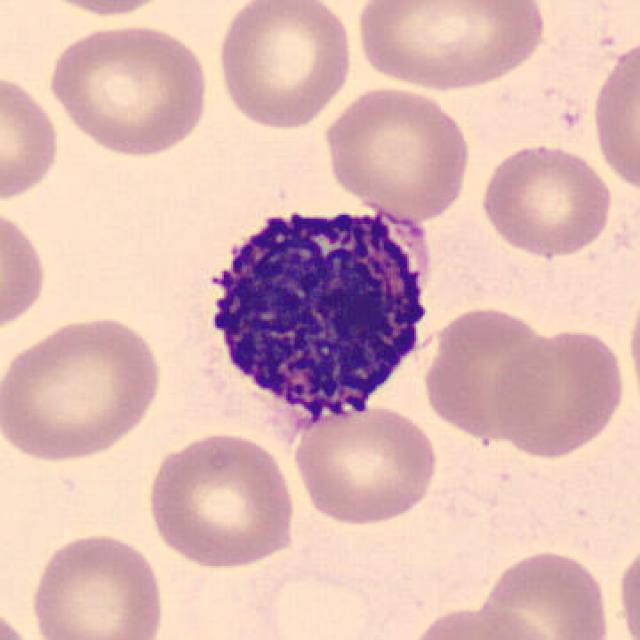Basophil: (185, 187, 448, 448)
RBC: (0, 310, 167, 466), (42, 19, 212, 159), (142, 428, 300, 572), (318, 83, 473, 222), (420, 302, 560, 444), (288, 400, 441, 529), (487, 324, 629, 460), (214, 0, 356, 132), (350, 0, 551, 93), (476, 139, 617, 259), (25, 527, 169, 640), (471, 546, 615, 640), (0, 69, 64, 206), (588, 36, 640, 198), (0, 203, 52, 340), (404, 601, 562, 640), (27, 0, 183, 18), (613, 536, 640, 640), (626, 284, 640, 421), (0, 599, 44, 639)
